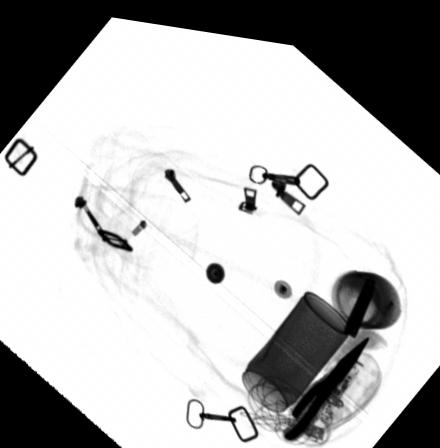Pliers: (279, 323, 370, 432)
